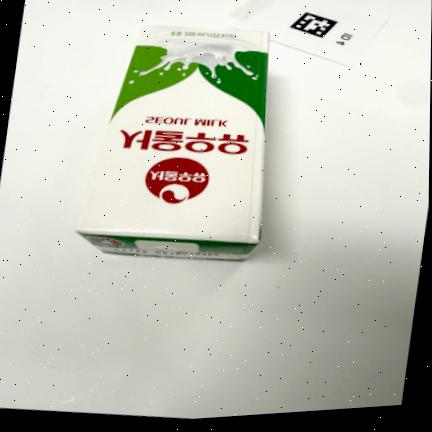milk_green: (76, 25, 269, 260)
